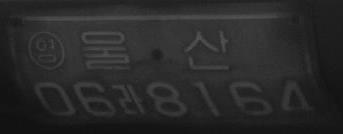0: (33, 79, 77, 118)
1: (189, 79, 224, 117)
4: (278, 77, 318, 117)
6: (228, 79, 274, 117), (78, 79, 116, 118)
8: (147, 80, 187, 117)
라: (116, 81, 147, 117)
영: (27, 29, 65, 71)
울산_D: (80, 29, 230, 71)
